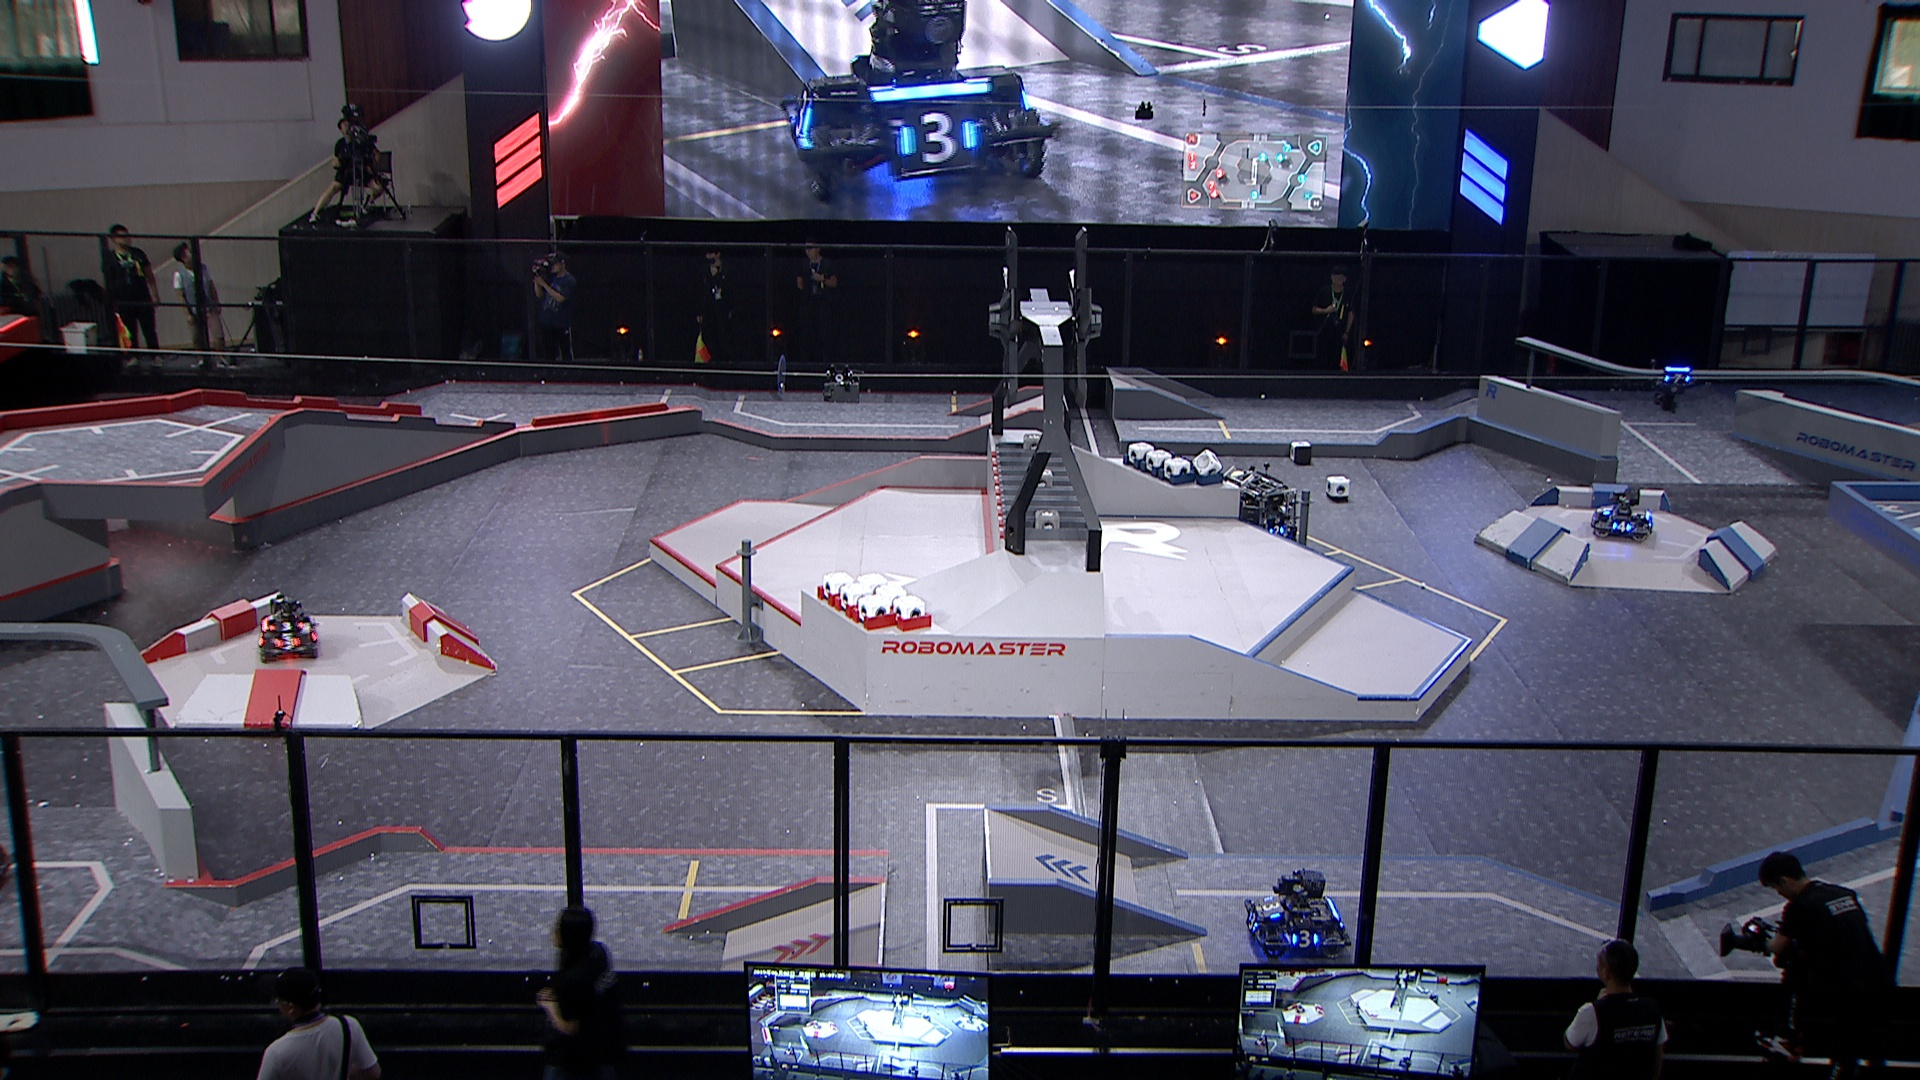armor: (1288, 928, 1319, 949), (1261, 895, 1283, 918), (266, 621, 309, 632), (273, 636, 299, 651), (1244, 910, 1259, 934), (1664, 372, 1691, 385), (1610, 520, 1633, 533), (1269, 524, 1287, 538)
car: (1244, 869, 1352, 960), (1224, 469, 1299, 549), (255, 593, 320, 665), (1588, 484, 1654, 543)
ignore: (775, 0, 1058, 200)
watcher: (1648, 357, 1692, 413)
